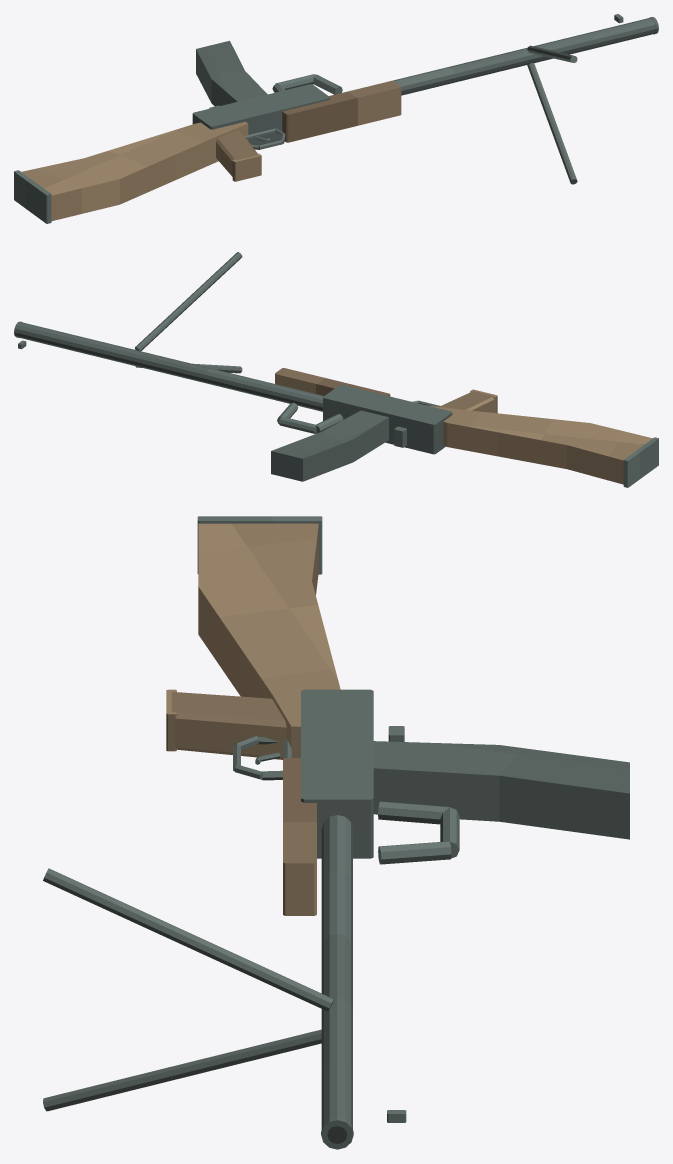
The model's file is weapon-bren.glb.
3 renders of one model, top to bottom at view 1: azimuth 30°, elevation 25°; view 2: azimuth 150°, elevation 25°; view 3: azimuth 270°, elevation 25°, orthographic. The views are drawn at different scales.
Visible parts, largest first — view 1: weapon-bren/shaped-solid-butt, weapon-bren/round-barrel, weapon-bren/long-wood-forepart, weapon-bren/full-depth-receiver, weapon-bren/upright-curved-top-magazine, weapon-bren/butt-end-plate, weapon-bren/distinct-eight-sided-pistol-grip, weapon-bren/deployed-bipod-1-1, weapon-bren/distinct-eight-sided-pistol-grip-heel, weapon-bren/deployed-bipod--1-1, weapon-bren/open-carry-handle-3, weapon-bren/open-carry-handle-2; view 2: weapon-bren/shaped-solid-butt, weapon-bren/round-barrel, weapon-bren/upright-curved-top-magazine, weapon-bren/full-depth-receiver, weapon-bren/long-wood-forepart, weapon-bren/butt-end-plate, weapon-bren/deployed-bipod--1-1, weapon-bren/distinct-eight-sided-pistol-grip, weapon-bren/open-carry-handle-2; view 3: weapon-bren/shaped-solid-butt, weapon-bren/upright-curved-top-magazine, weapon-bren/full-depth-receiver, weapon-bren/round-barrel, weapon-bren/distinct-eight-sided-pistol-grip, weapon-bren/long-wood-forepart, weapon-bren/deployed-bipod--1-1, weapon-bren/deployed-bipod-1-1, weapon-bren/open-carry-handle-3, weapon-bren/butt-end-plate, weapon-bren/open-carry-handle-1.
Boxes of the visible parts, box(x1,y1,x2,y2) form: weapon-bren/shaped-solid-butt: box(21, 121, 248, 221); weapon-bren/round-barrel: box(393, 18, 655, 95); weapon-bren/long-wood-forepart: box(282, 80, 401, 142); weapon-bren/full-depth-receiver: box(192, 84, 330, 145); weapon-bren/upright-curved-top-magazine: box(196, 40, 267, 106); weapon-bren/butt-end-plate: box(14, 170, 51, 223); weapon-bren/distinct-eight-sided-pistol-grip: box(216, 130, 257, 176); weapon-bren/deployed-bipod-1-1: box(527, 63, 577, 184); weapon-bren/distinct-eight-sided-pistol-grip-heel: box(232, 153, 261, 181); weapon-bren/deployed-bipod--1-1: box(527, 45, 577, 62); weapon-bren/open-carry-handle-3: box(313, 74, 342, 94); weapon-bren/open-carry-handle-2: box(275, 74, 314, 89); weapon-bren/shaped-solid-butt: box(427, 405, 652, 484); weapon-bren/round-barrel: box(17, 322, 323, 411); weapon-bren/upright-curved-top-magazine: box(271, 410, 388, 481); weapon-bren/full-depth-receiver: box(323, 384, 452, 454); weapon-bren/long-wood-forepart: box(275, 368, 390, 396); weapon-bren/butt-end-plate: box(623, 437, 658, 487); weapon-bren/deployed-bipod--1-1: box(135, 252, 242, 351); weapon-bren/distinct-eight-sided-pistol-grip: box(439, 391, 494, 412); weapon-bren/open-carry-handle-2: box(279, 416, 316, 433); weapon-bren/shaped-solid-butt: box(198, 523, 340, 757); weapon-bren/upright-curved-top-magazine: box(373, 741, 629, 839); weapon-bren/full-depth-receiver: box(301, 689, 373, 858); weapon-bren/round-barrel: box(321, 815, 352, 1129); weapon-bren/distinct-eight-sided-pistol-grip: box(171, 692, 286, 759); weapon-bren/long-wood-forepart: box(283, 758, 316, 915); weapon-bren/deployed-bipod--1-1: box(43, 868, 334, 1011); weapon-bren/deployed-bipod-1-1: box(43, 1029, 321, 1111); weapon-bren/open-carry-handle-3: box(378, 841, 451, 864); weapon-bren/butt-end-plate: box(197, 516, 322, 574); weapon-bren/open-carry-handle-1: box(378, 801, 451, 824).
Bounding box in the file's own units: 1.16 × 0.2212 × 0.4855.
Materials: 3 (3 with a texture image).
